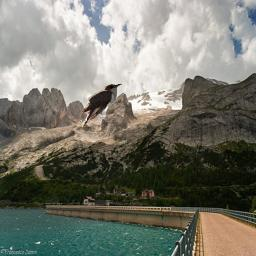Cuckoo: (80, 83, 122, 133)
